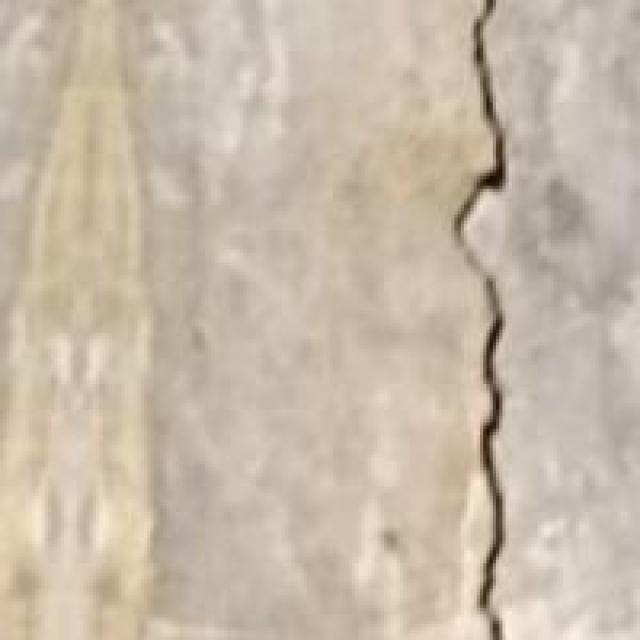crack: (378, 0, 547, 637)
